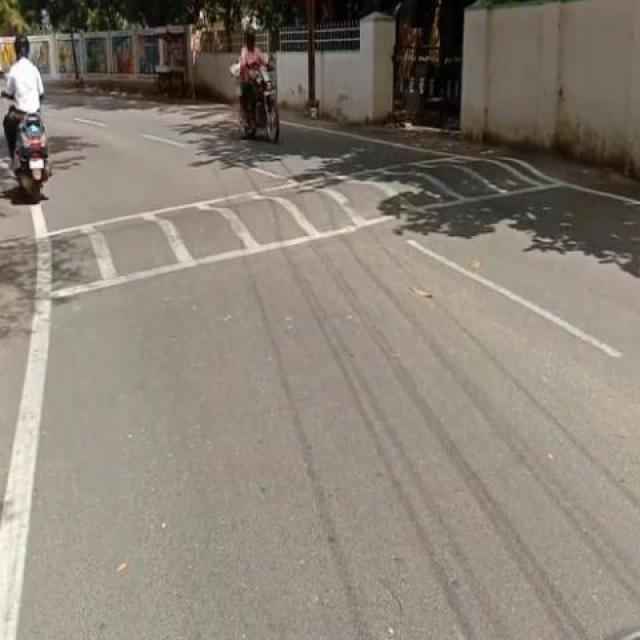Speed Bump: (52, 159, 548, 298), (0, 233, 55, 316)
